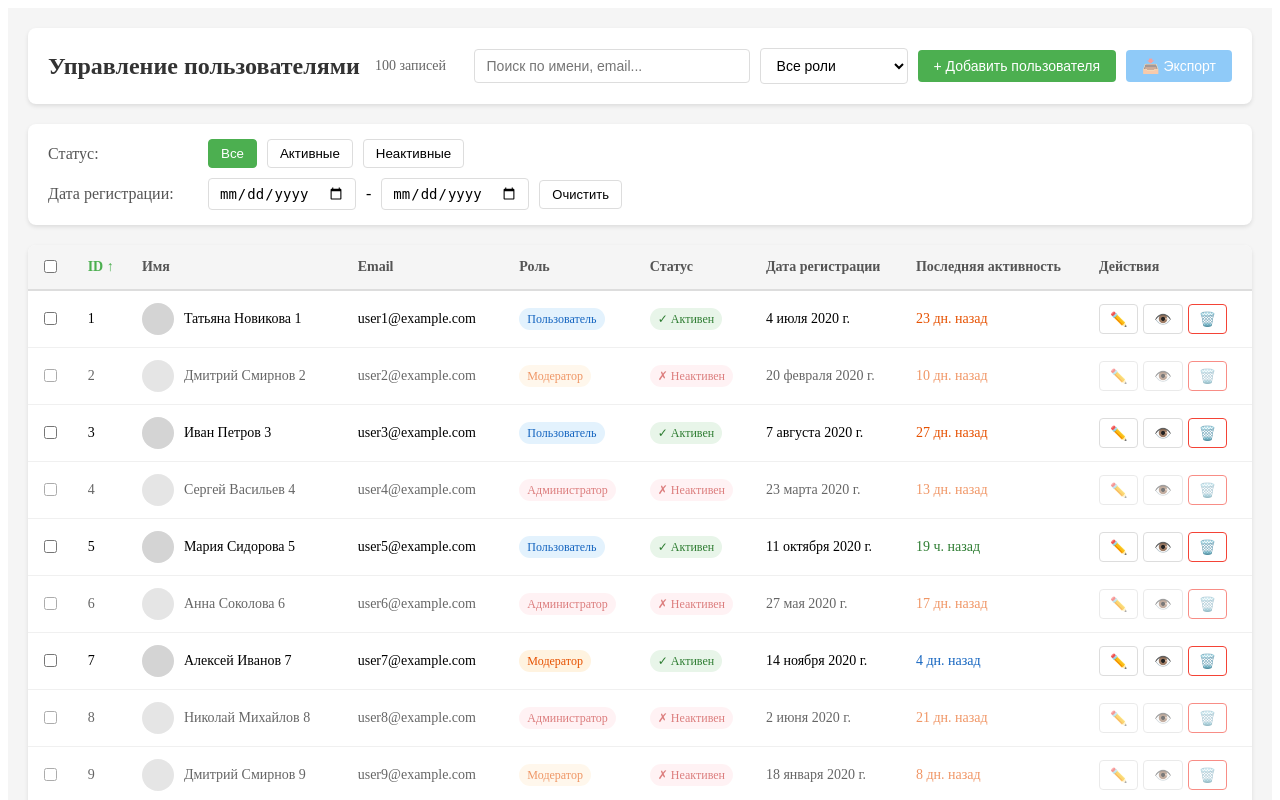
Scenario: UserTable › Фильтрация по статусу › должен фильтровать неактивных пользователей
Step 1. Click the button with class "filter-btn" showing "Неактивные" → (414, 154), box 363,139 -> 464,168
(page scrolled)
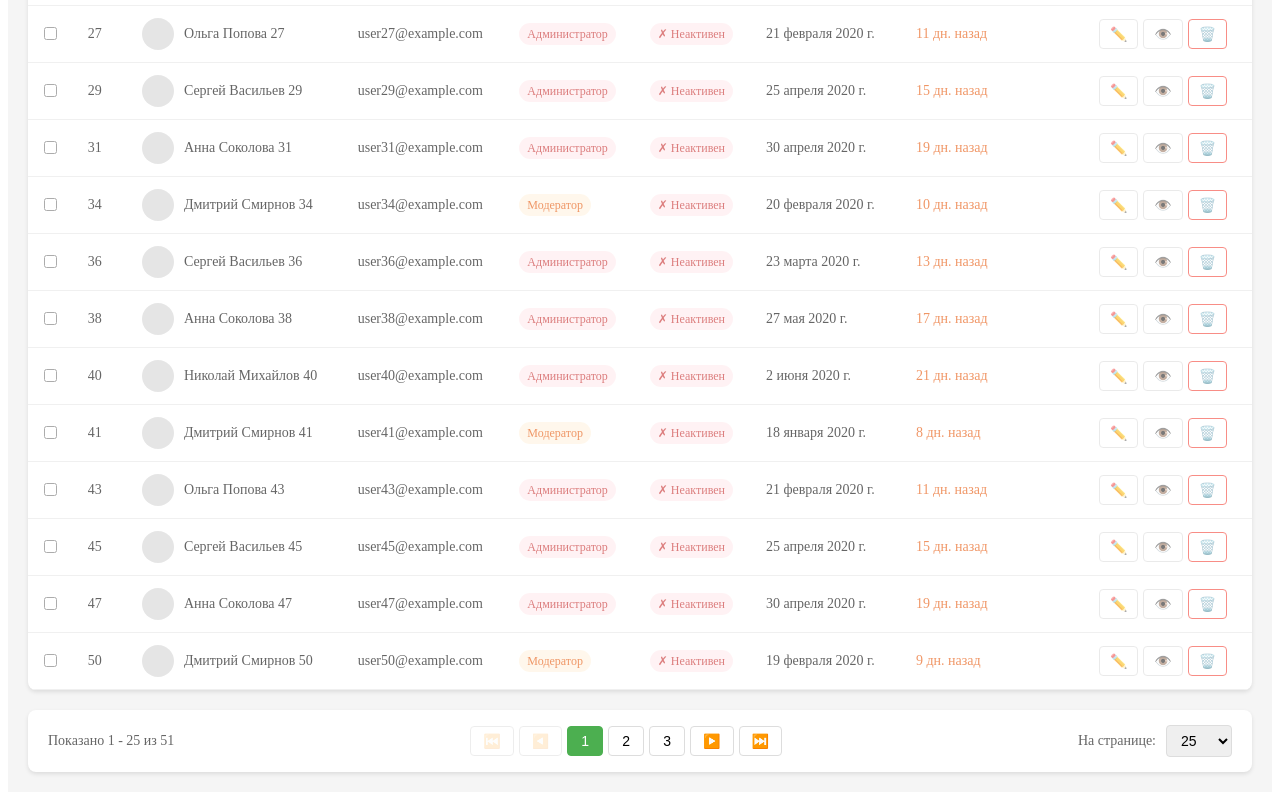
Expected: the text with class "status-inactive" in the row of "Ольга Попова 27" is shown, 650,23 -> 733,45
Expected: the text with class "status-inactive" in the row of "Сергей Васильев 29" is shown, 650,80 -> 733,102
Expected: the text with class "status-inactive" in the row of "Анна Соколова 31" is shown, 650,137 -> 733,159
